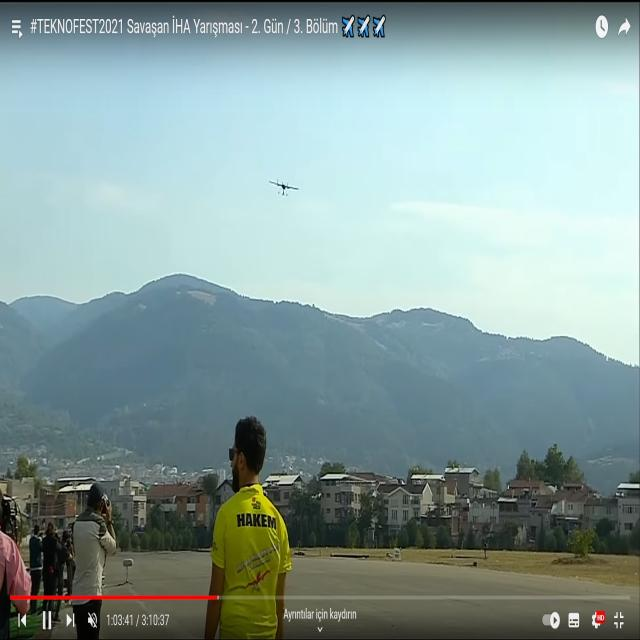iha: (267, 174, 298, 197)
